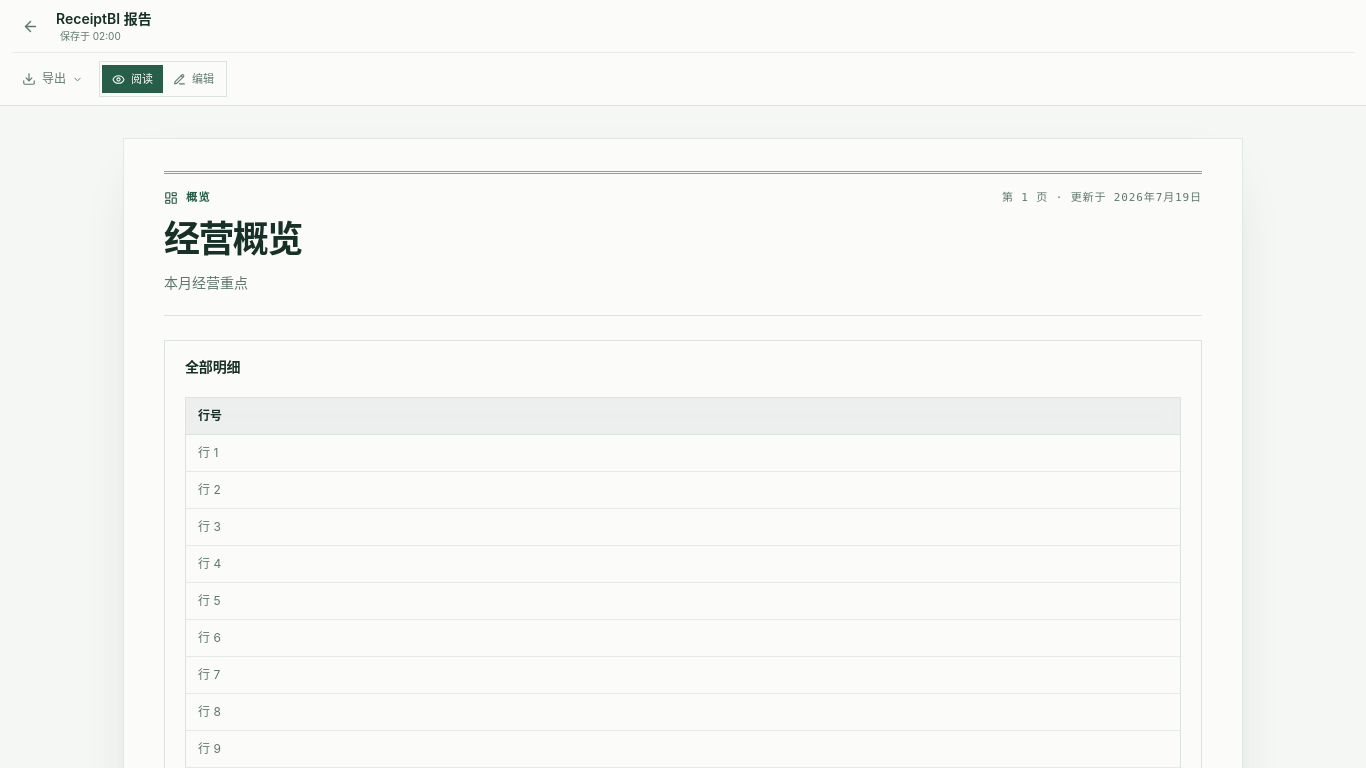
Test: ReportWorkspace › paginates table rows in edit mode without opening the block settings
This screenshot has width=1366, height=768.
Click the button with aria-label "编辑报告" at (194, 79), box [163,65,224,93]
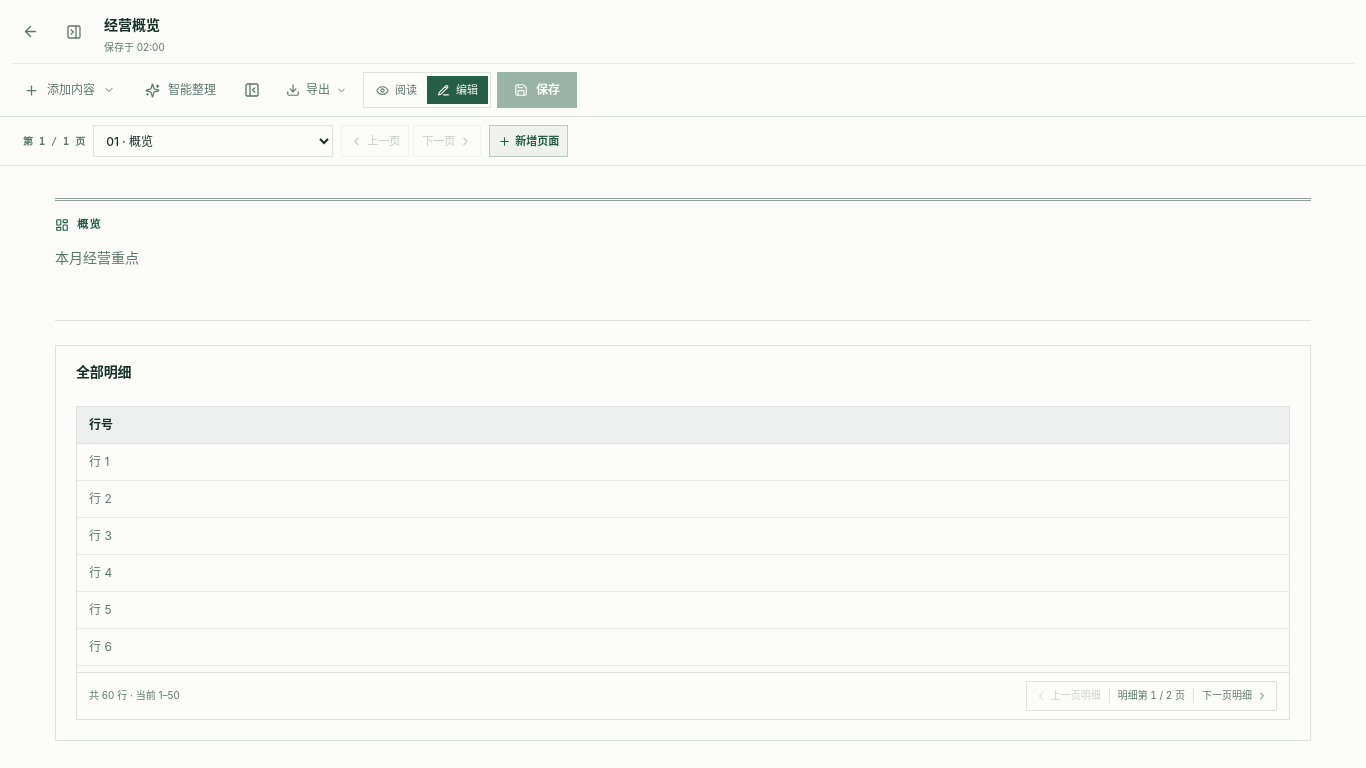
Click the button "下一页明细" at (1235, 696), box [1194,682,1276,710]
(page scrolled)
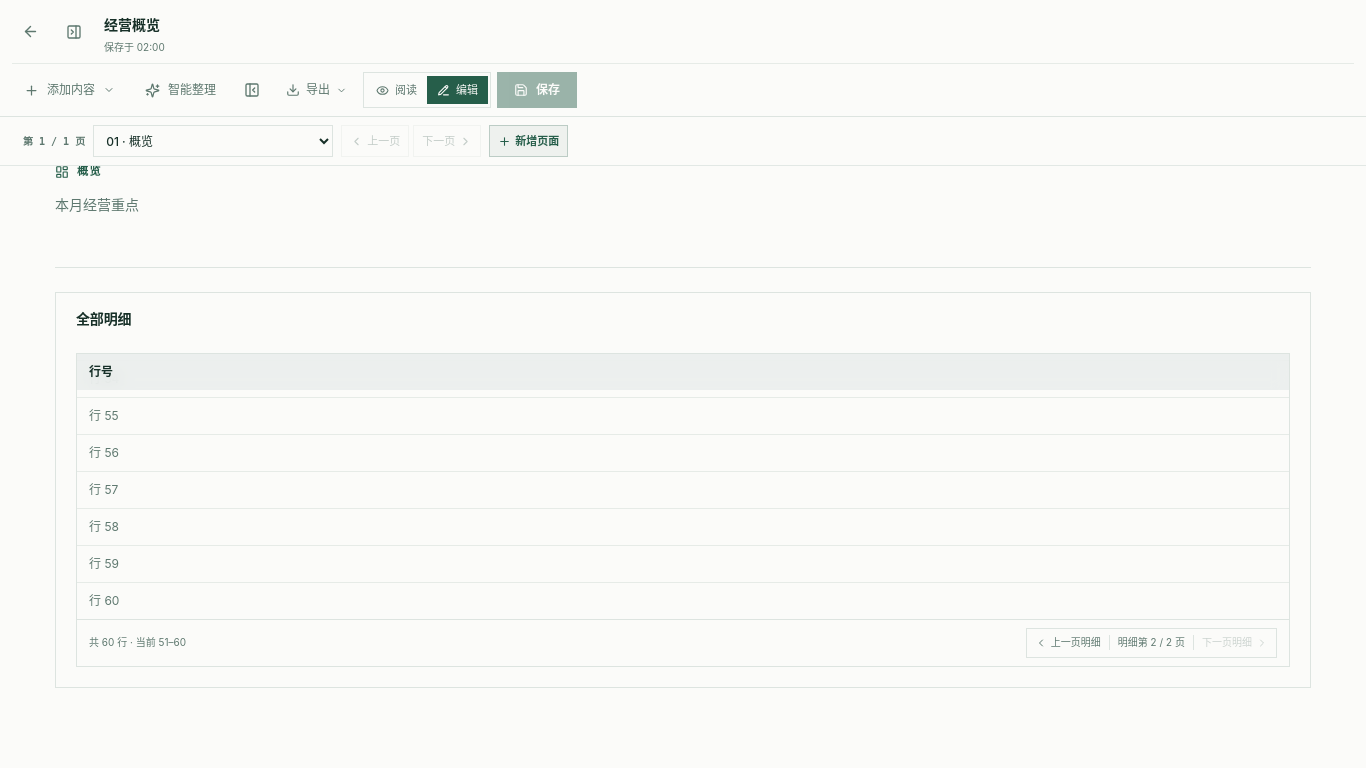
Expected: the text "行 60" is shown, [77,582,1289,618]
